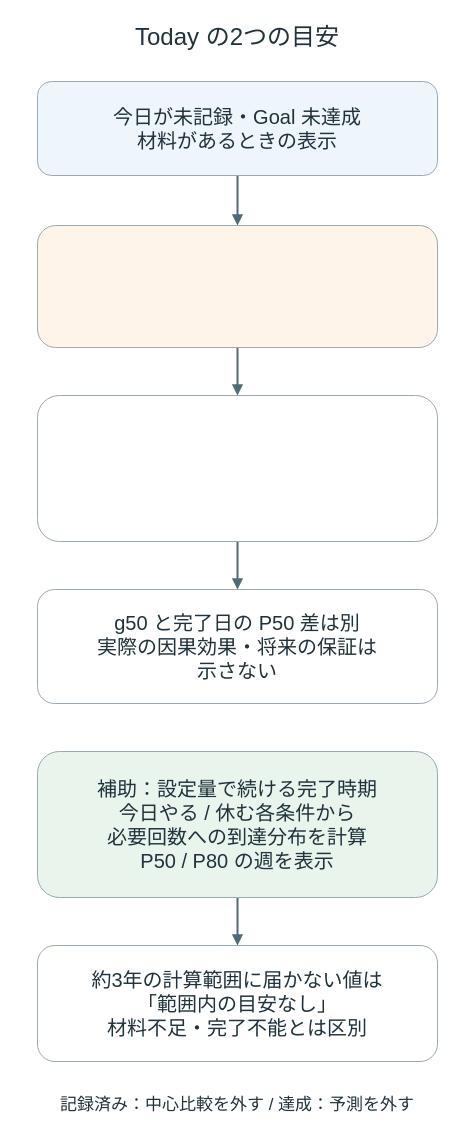
Image size: 474x1142. Some labels were removed from this diagram. Each missing label, with the box of its shape:
中心：今日休んだ後の再開待ち G = 次の「やった」までの日数 g50 = G の中央値: (36, 224, 438, 348)
同じ継続傾向・設定量で 再開後の経路を時間シフトして共有 → モデル上の追加遅れの中央値 として解釈できる: (36, 394, 438, 542)
